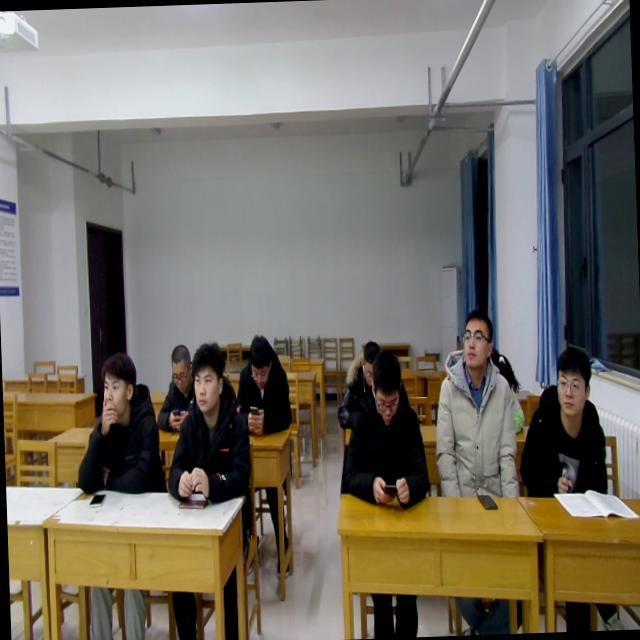bow: (333, 340, 388, 430), (153, 342, 199, 432)
down: (369, 344, 403, 428), (245, 330, 275, 391), (166, 342, 192, 390), (356, 336, 382, 383)
lookup: (548, 341, 595, 419), (186, 334, 226, 421), (94, 350, 138, 424), (454, 308, 496, 373)
sit: (430, 306, 520, 502), (334, 346, 432, 509), (160, 338, 255, 504), (513, 340, 609, 500), (70, 348, 166, 499), (232, 332, 292, 438)
